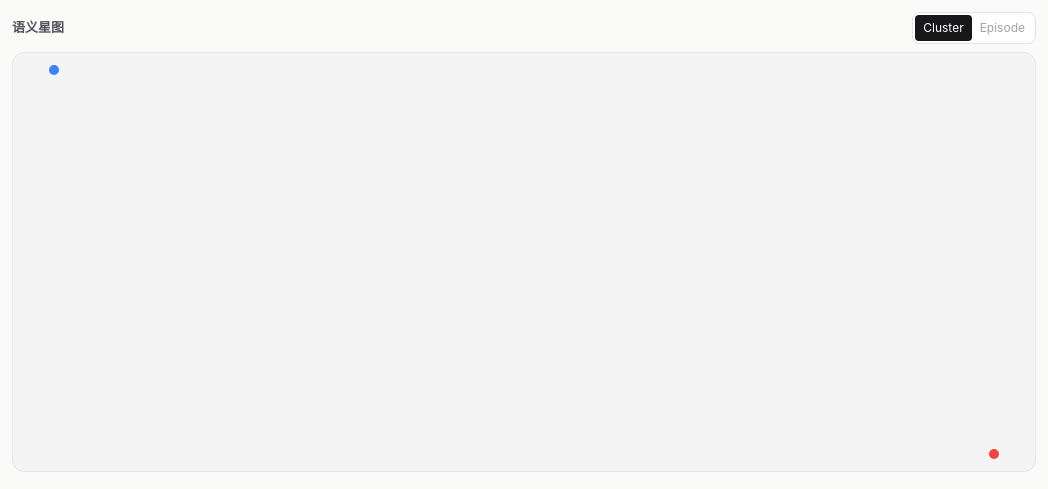
Test: SemanticAtlas (V2/T-V2-8) › clicking a point opens an evidence card with a reader link
Click the button titled "AI is useful": (54, 70) [49, 65, 59, 75]
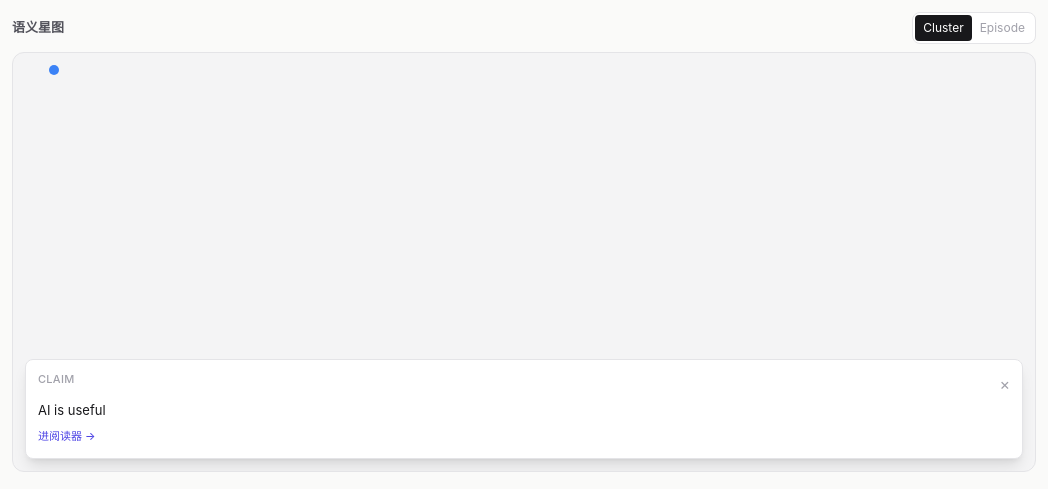
Expected: the text "AI is useful" is shown, [38, 402, 106, 418]
